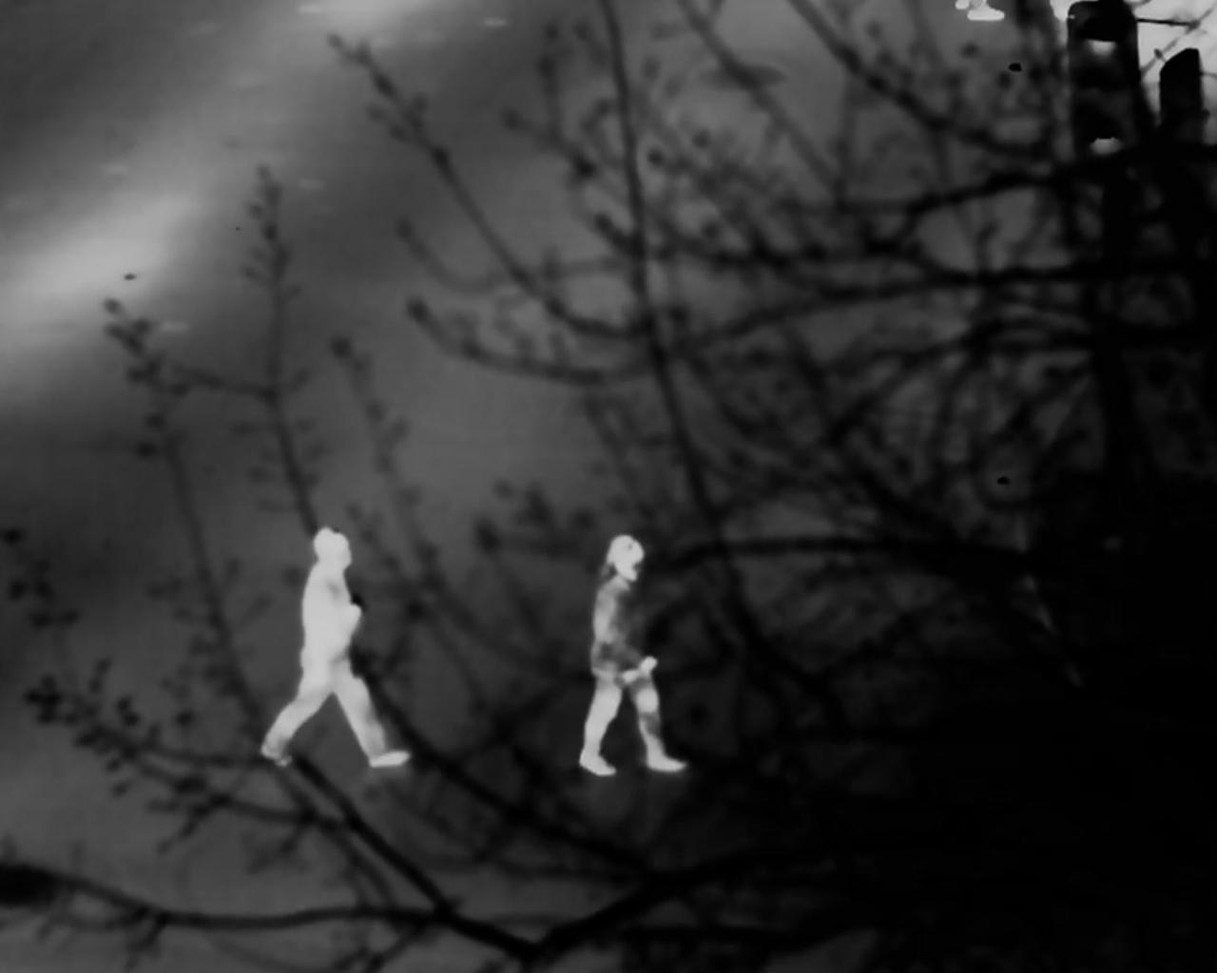person: (266, 525, 403, 773), (578, 528, 686, 783)
